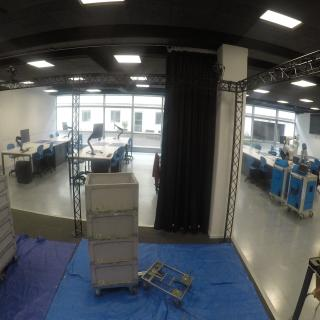Box4G: (84, 170, 142, 217), (86, 212, 143, 243), (87, 239, 142, 268), (91, 265, 142, 288)
